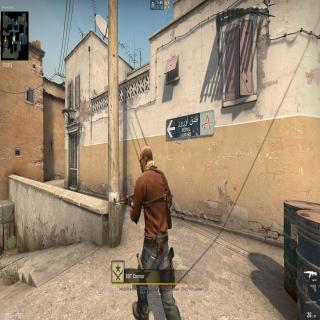T-Head: (138, 144, 154, 173)
